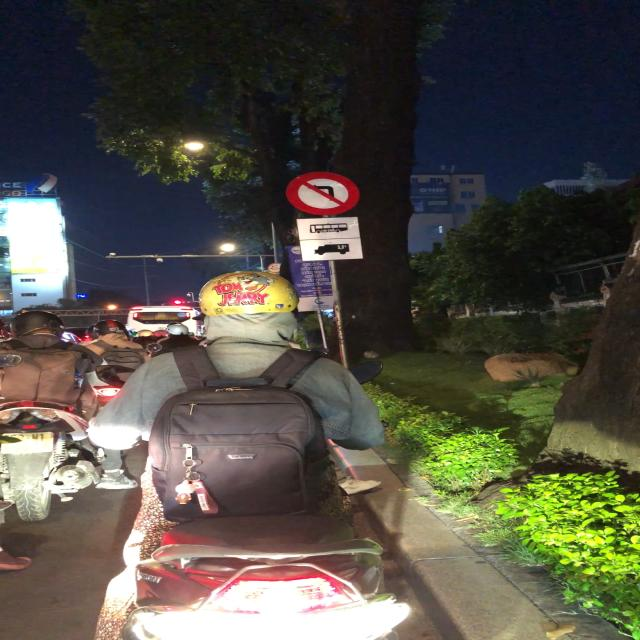Bien bao cam re trai: (284, 170, 359, 217)
